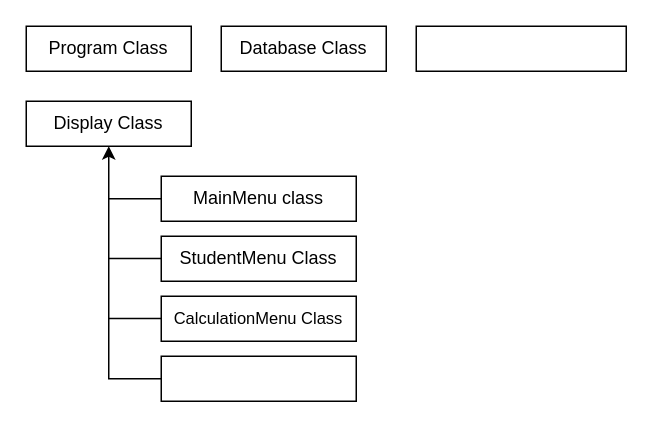
This 653x428 diagram has some shape labels left out. Each missing label, with the centre of its shape:
"GeneralMethod Class" belongs at point 520,48.
"MenegmentMenu Class" belongs at point 258,378.
